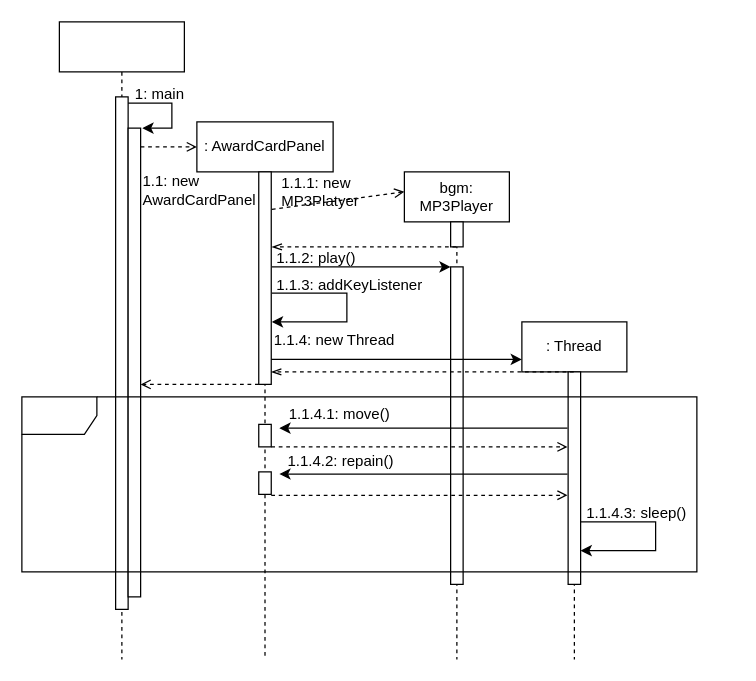
Some shapes in this 756 by 681 pixel diagram are drawn without their labels. Each missing label, with the box of its shape:
: App: (58, 21, 184, 659)
loop: (21, 396, 697, 572)
